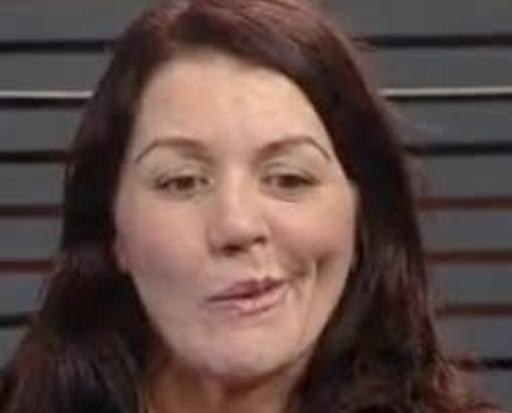left_eye: (261, 174, 319, 195)
left_lip_corner: (273, 274, 308, 294)
right_eye: (154, 175, 213, 197)
right_lip_corner: (194, 291, 220, 311)
